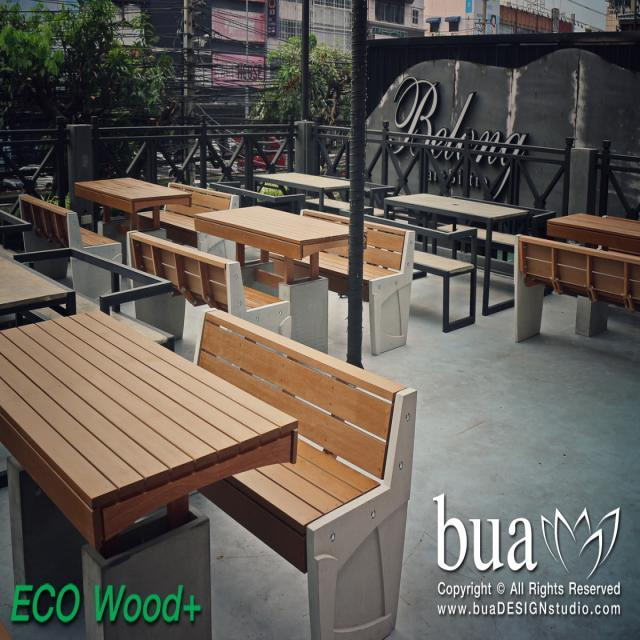table: (2, 311, 308, 535), (200, 190, 355, 262), (63, 159, 195, 217)
